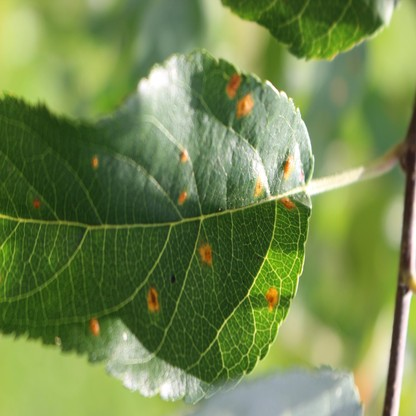rust: (236, 93, 254, 117), (226, 74, 243, 98), (146, 282, 159, 312), (266, 288, 279, 312), (199, 243, 211, 263), (89, 314, 100, 334), (254, 175, 263, 197), (283, 155, 291, 179), (279, 197, 294, 208), (177, 191, 187, 203), (179, 149, 188, 161), (92, 154, 97, 167), (32, 198, 39, 207)
